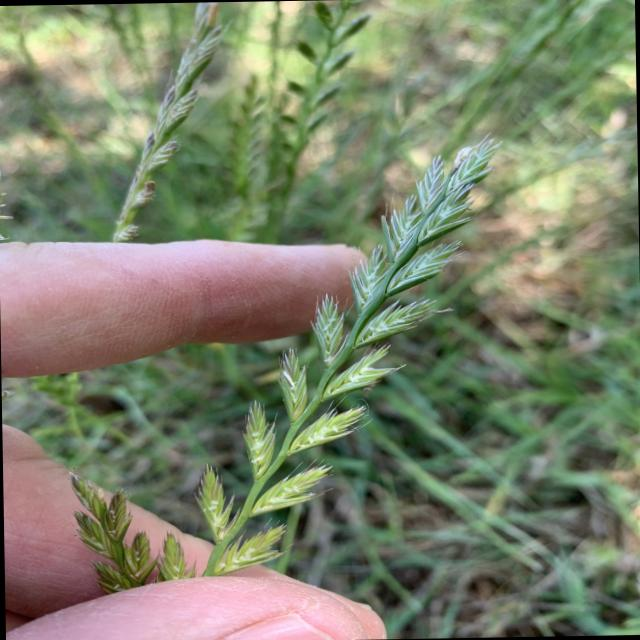Lolium: (60, 131, 514, 597), (107, 4, 230, 240), (278, 4, 374, 162)
